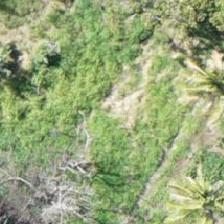coconut_tree: (159, 155, 223, 223)
